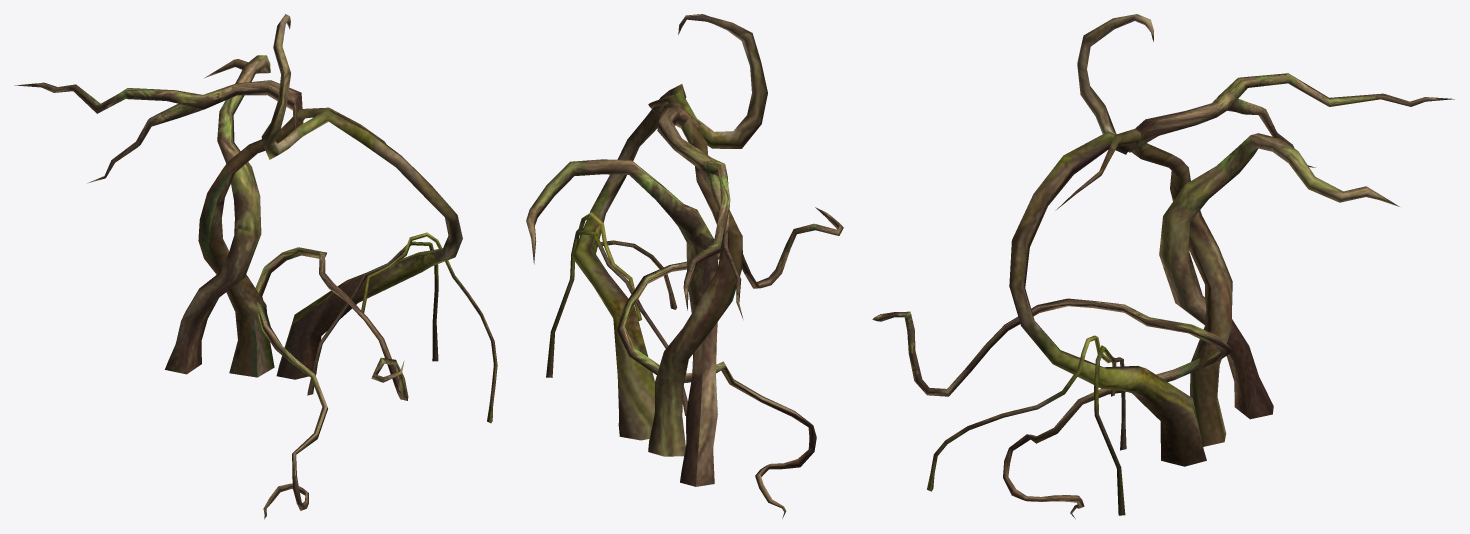
File: wlf_shugeng02_w.FBX
3 renders of one model, left to right at view 1: azimuth 30°, elevation 25°; view 2: azimuth 150°, elevation 25°; view 3: azimuth 270°, elevation 25°, orthographic. The views are drawn at different scales.
Visible parts, largest first — view 1: wlf_shugeng02_w; view 2: wlf_shugeng02_w; view 3: wlf_shugeng02_w.
Part boxes in pixels (x1,y1,x2,y2): wlf_shugeng02_w: (14, 14, 497, 519); wlf_shugeng02_w: (526, 14, 843, 518); wlf_shugeng02_w: (872, 14, 1454, 519).
Bounding box in the file's own units: 44.09 × 71.75 × 71.57.
